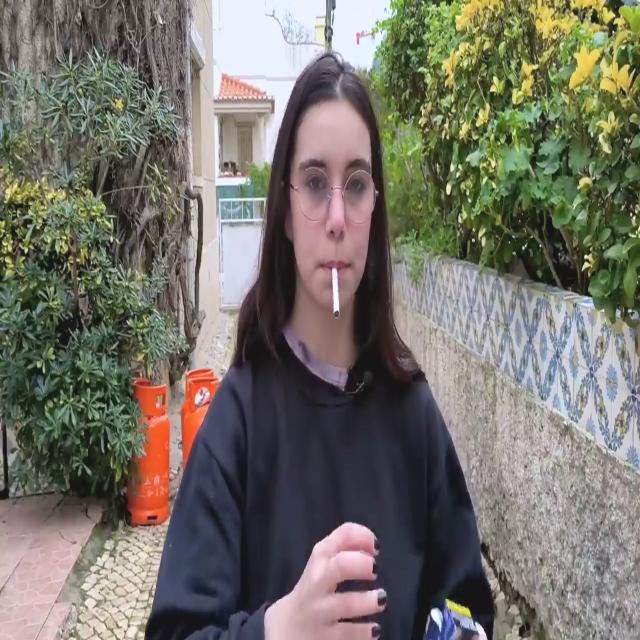Smooking: (323, 257, 350, 330)
